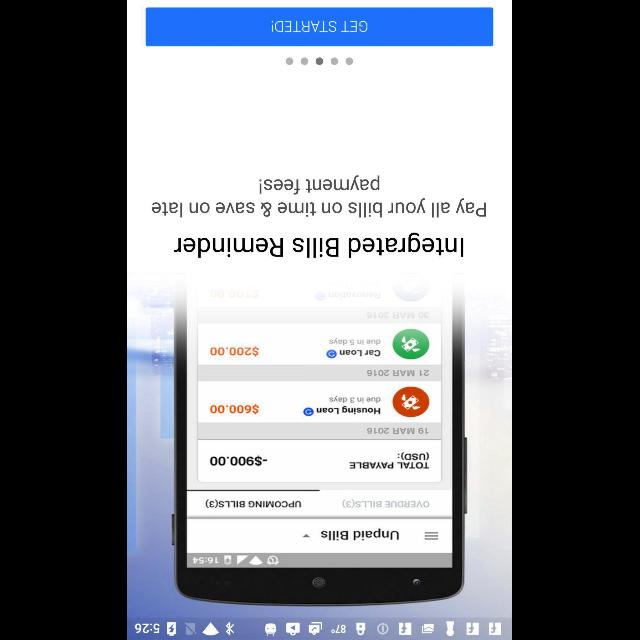image: (128, 272, 512, 618)
pageindicator: (286, 57, 354, 65)
text: (153, 175, 487, 218), (174, 232, 464, 258)
textbutton: (146, 8, 494, 46)
uppertaskbar: (128, 617, 512, 639)
